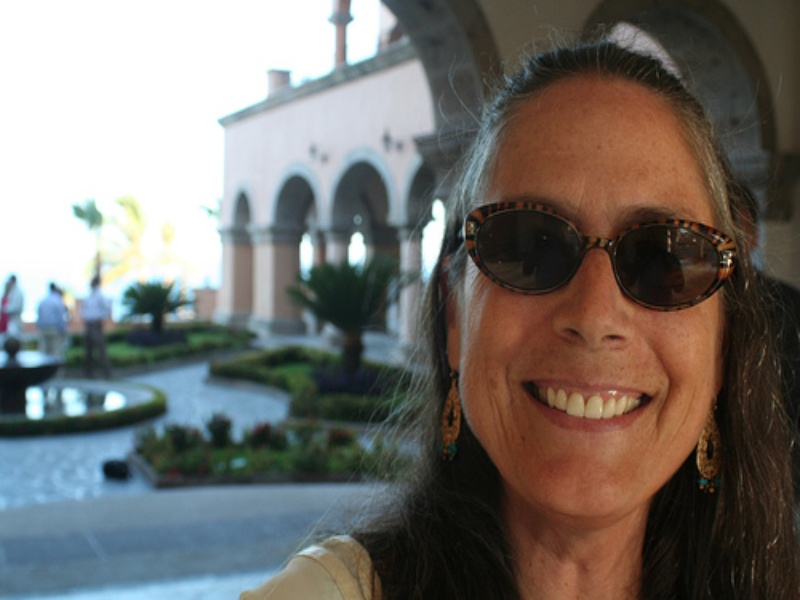person: (239, 46, 800, 600), (81, 276, 111, 377), (36, 282, 67, 351), (5, 274, 25, 330)
